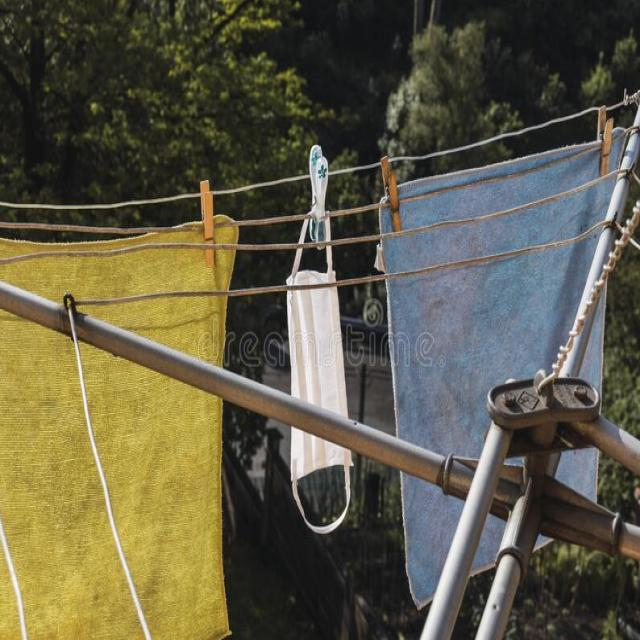clothes: (9, 394, 216, 636), (390, 328, 495, 427), (276, 300, 360, 398)
